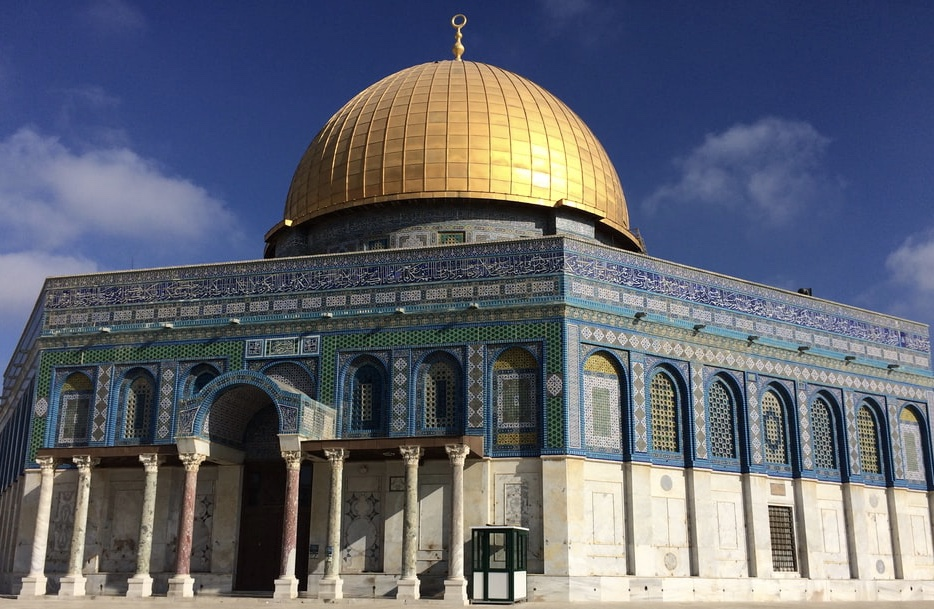Mosque: (18, 10, 924, 596)
